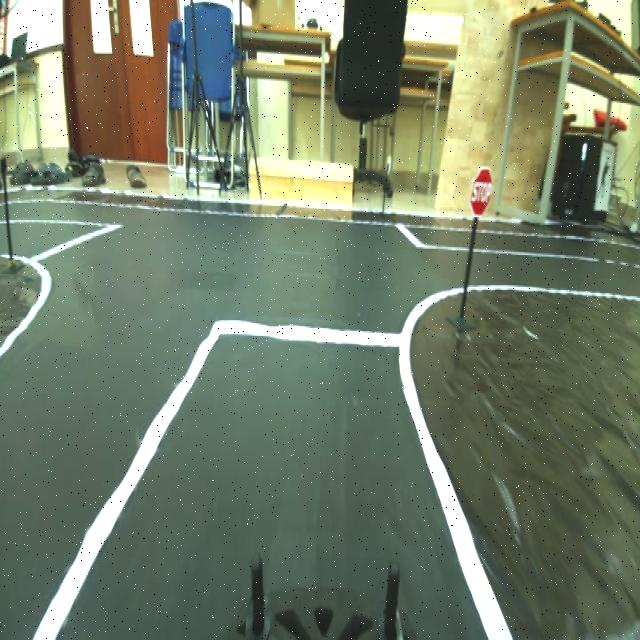stop: (466, 157, 503, 225)
